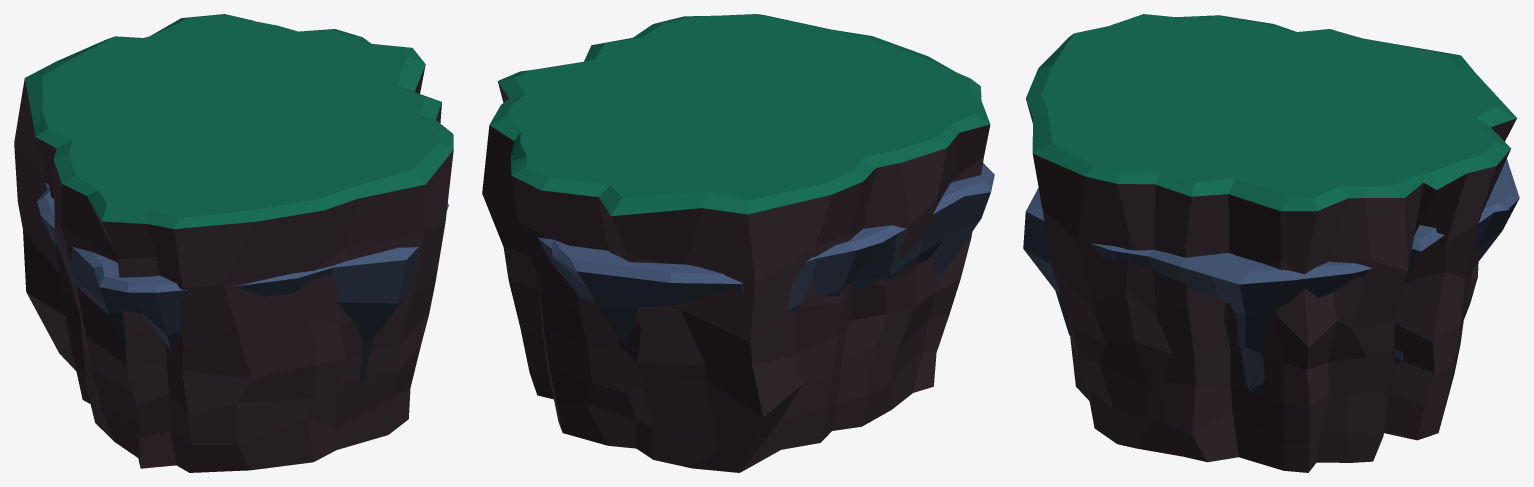
The model's file is Islands.glb.
3 views of the same model, side by side, from view 1: azimuth 30°, elevation 25°; view 2: azimuth 150°, elevation 25°; view 3: azimuth 270°, elevation 25° (orthographic). The views are drawn at different scales.
Visible parts, largest first — view 1: platform_2_brown.001, platform_blue_stone.002; view 2: platform_2_brown.001, platform_blue_stone.002; view 3: platform_2_brown.001, platform_blue_stone.002.
Boxes of the visible parts, box(x1,y1,x2,y2) form: platform_2_brown.001: box(14, 14, 453, 472); platform_blue_stone.002: box(37, 182, 448, 384); platform_2_brown.001: box(482, 14, 990, 472); platform_blue_stone.002: box(537, 163, 994, 346); platform_2_brown.001: box(1026, 14, 1516, 472); platform_blue_stone.002: box(1023, 159, 1519, 393).
Bounding box in the file's own units: 23.86 × 16.09 × 24.72.
